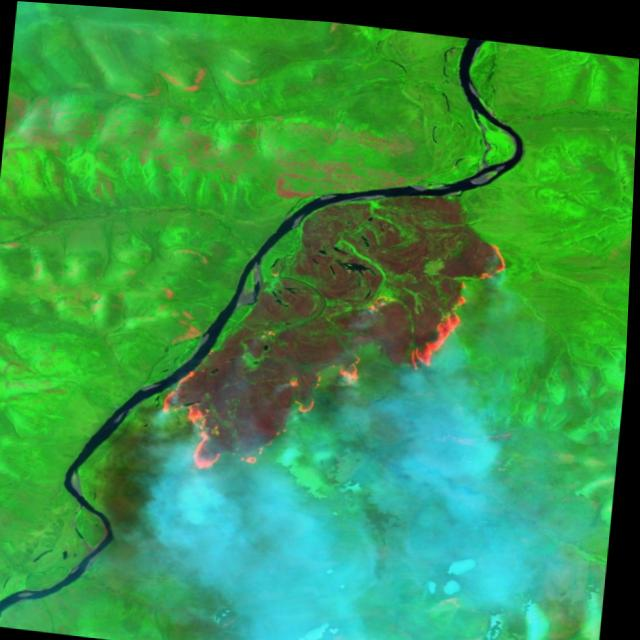fire: (144, 155, 526, 507)
